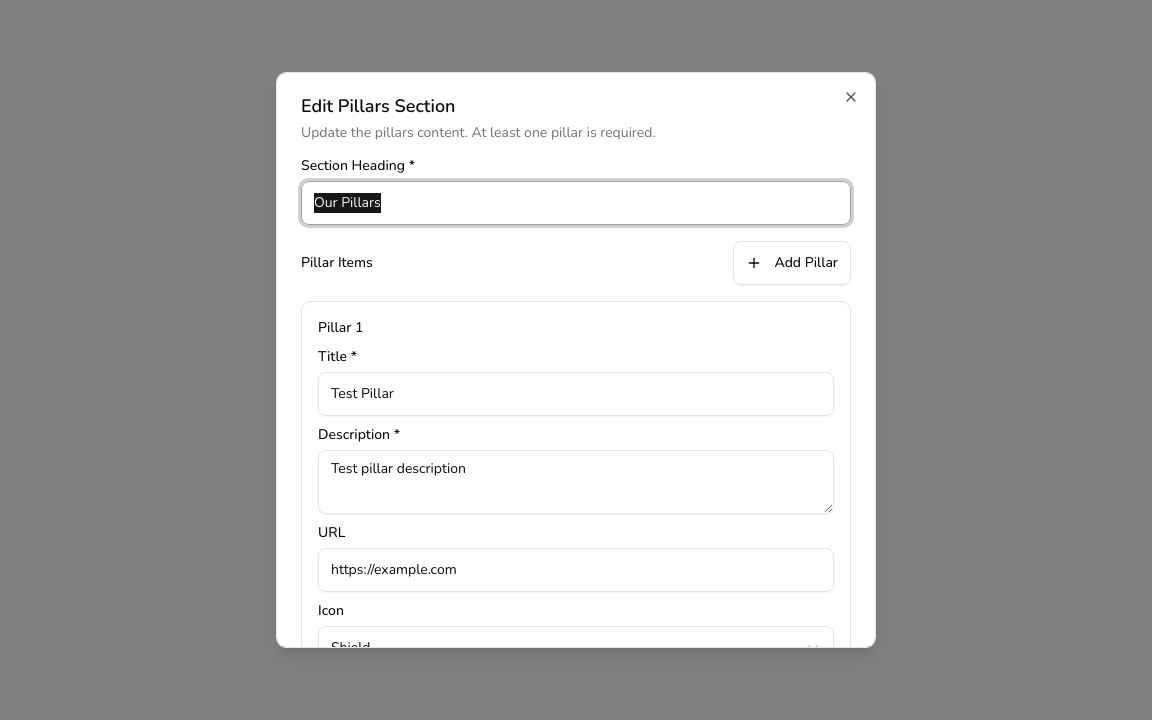
PillarsEditor › adds a new pillar when Add Pillar is clicked
Expected: the element with test id "pillar-item-0" is shown, [301,301,851,648]
What coordinates should you click on to do the following:
click the button with test id "add-pillar-button"
I would click on:
 (792, 263)
Its box is [734,241,851,285].
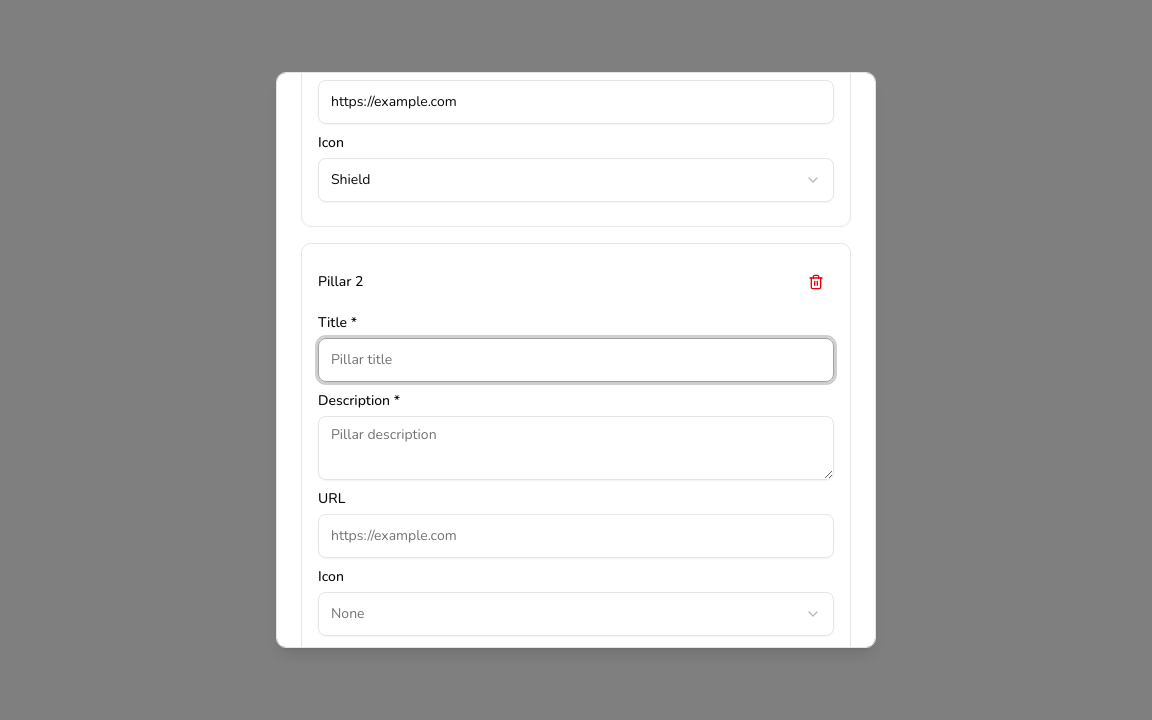
Now the element with test id "pillar-item-1" is shown, box [301,243,851,648]
